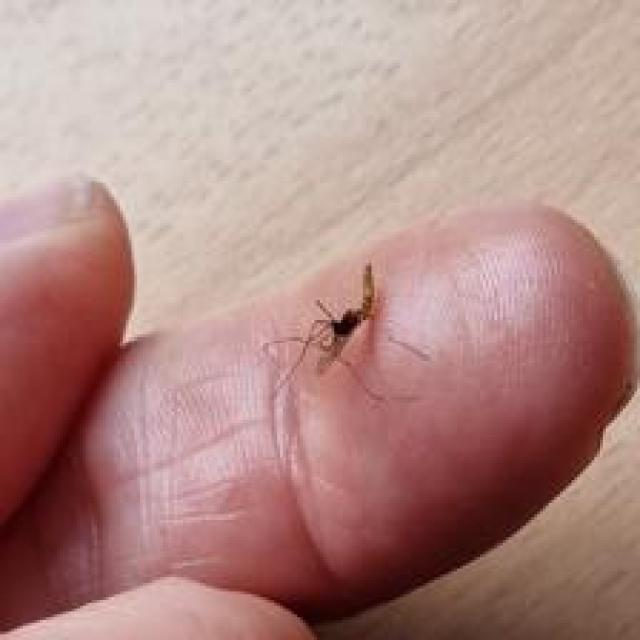Culex: (264, 260, 384, 403)
